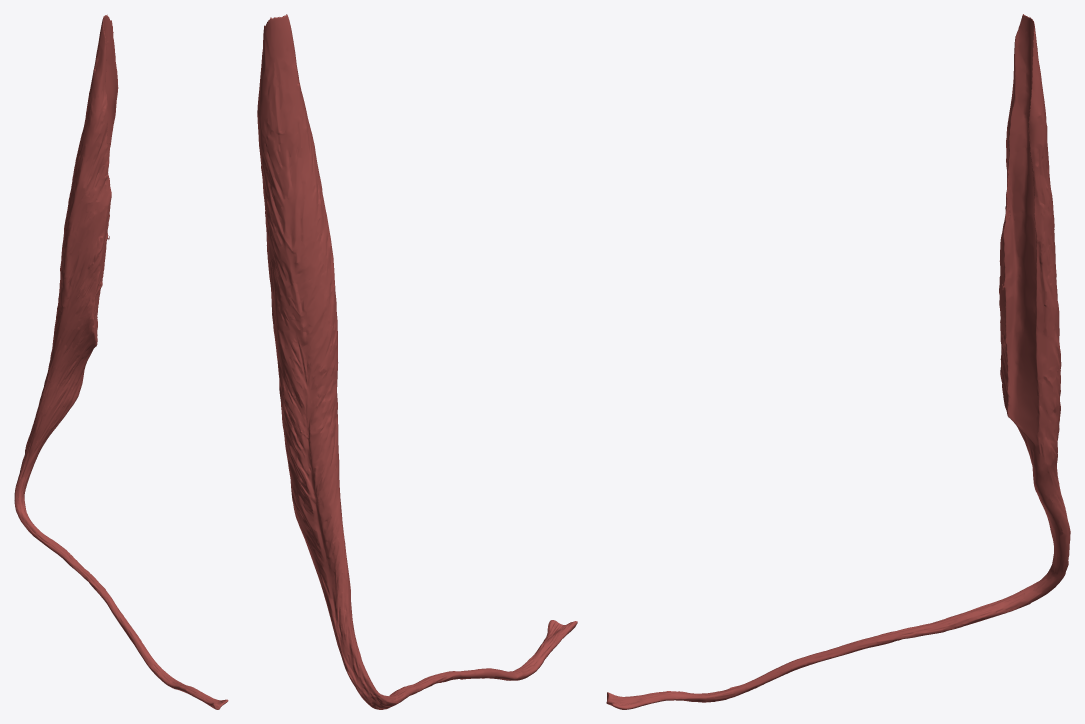
Rendered from FMA65015.glb.
3 views of the same model, side by side, from view 1: azimuth 30°, elevation 25°; view 2: azimuth 150°, elevation 25°; view 3: azimuth 270°, elevation 25° (orthographic). The views are drawn at different scales.
Visible parts, largest first — view 1: FMA65015; view 2: FMA65015; view 3: FMA65015.
Part boxes in pixels (left/top/right/bottom): FMA65015: left=14, top=14, right=228, bottom=709; FMA65015: left=257, top=14, right=577, bottom=709; FMA65015: left=606, top=14, right=1070, bottom=709.
Bounding box in the file's own units: 0.0548 × 0.3073 × 0.1789.
